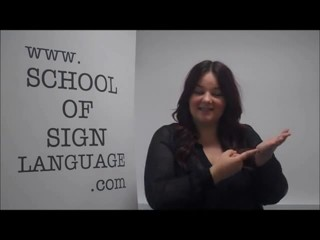T: (205, 124, 303, 185)
